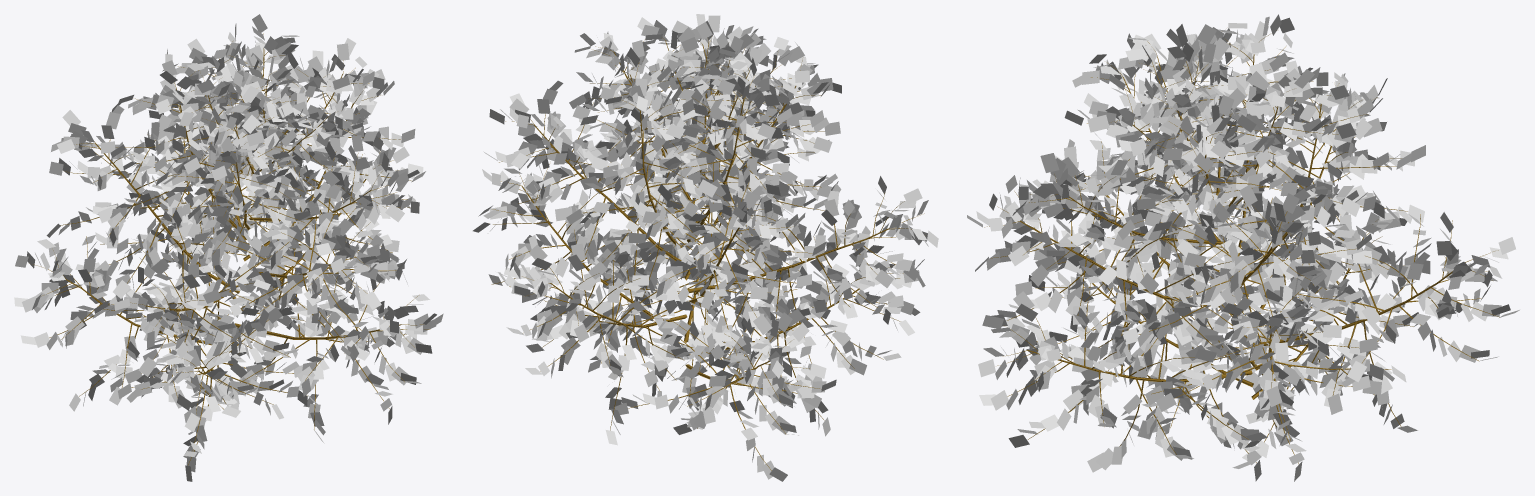
Rendered from bush.gltf.
3 renders of one model, left to right at view 1: azimuth 30°, elevation 25°; view 2: azimuth 150°, elevation 25°; view 3: azimuth 270°, elevation 25°, orthographic. The views are drawn at different scales.
Visible parts, largest first — view 1: Foliage001, Foliage002; view 2: Foliage001, Foliage002; view 3: Foliage001, Foliage002.
Boxes of the visible parts, <box> form: Foliage001: <box>14,14,443,481</box>; Foliage002: <box>29,33,430,465</box>; Foliage001: <box>473,14,938,481</box>; Foliage002: <box>488,36,924,470</box>; Foliage001: <box>967,14,1519,481</box>; Foliage002: <box>984,34,1499,463</box>.
Size of the model in its own units: 7.18 by 7.24 by 7.93.
